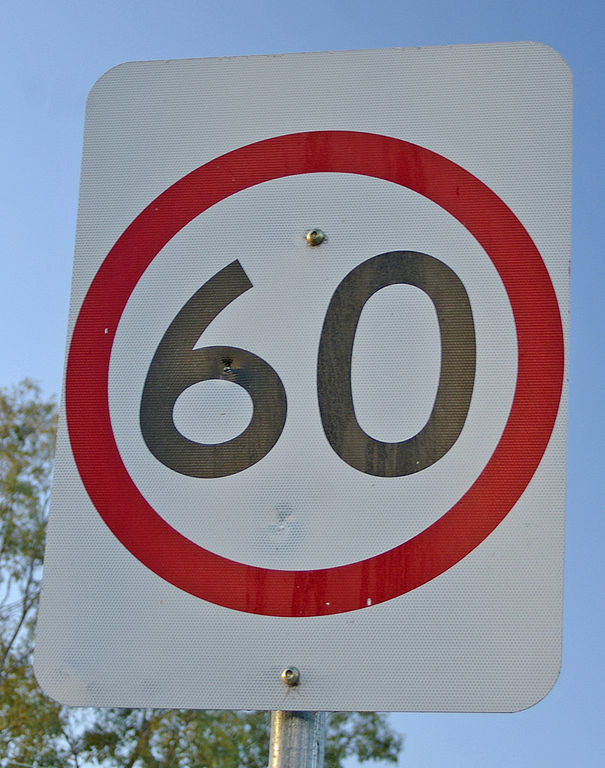Speed_limit_60km: (69, 127, 562, 616)
